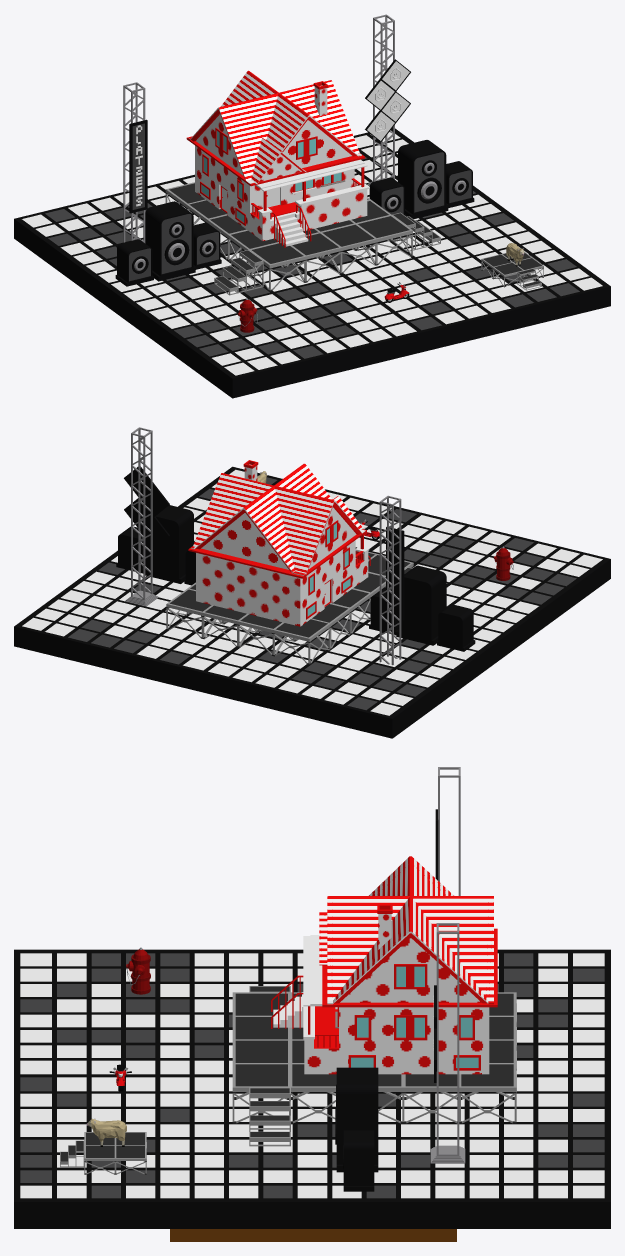
3 views of the same model, one above another, from view 1: azimuth 30°, elevation 25°; view 2: azimuth 150°, elevation 25°; view 3: azimuth 270°, elevation 25° (orthographic). The views are drawn at different scales.
Visible parts, largest first — view 1: Cube.008, Cube.196; view 2: Cube.008, Cube.196, OBJRANDOM_FIRE_HYDRANT; view 3: Cube.008, Cube.196, UNDERGROUND_ART_PIECE_VAN_GOGH, OBJRANDOM_FIRE_HYDRANT, ANIMAL_OVEJA.
Part boxes in pixels (x1=…): Cube.008: x1=14, y1=14, x2=610, y2=398; Cube.196: x1=186, y1=70, x2=369, y2=247; Cube.008: x1=14, y1=427, x2=610, y2=738; Cube.196: x1=188, y1=460, x2=370, y2=626; OBJRANDOM_FIRE_HYDRANT: x1=493, y1=546, x2=513, y2=580; Cube.008: x1=14, y1=767, x2=610, y2=1228; Cube.196: x1=271, y1=856, x2=497, y2=1074; UNDERGROUND_ART_PIECE_VAN_GOGH: x1=170, y1=1229, x2=456, y2=1241; OBJRANDOM_FIRE_HYDRANT: x1=126, y1=947, x2=150, y2=994; ANIMAL_OVEJA: x1=86, y1=1118, x2=126, y2=1146.
Bounding box in the file's own units: 4000 × 2098 × 4000.
Materials: 35 (3 with a texture image).
